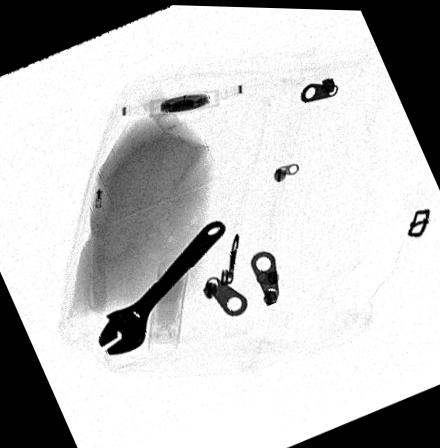Wrench: (98, 218, 228, 355)
